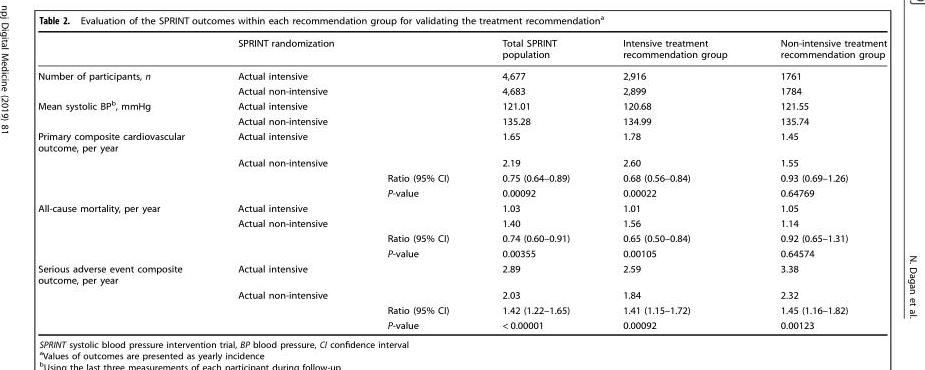table: (38, 37, 887, 330)
table column: (38, 37, 211, 330), (596, 37, 754, 330), (211, 37, 361, 330), (754, 37, 887, 330), (475, 37, 596, 330), (361, 37, 475, 330)
table column header: (38, 37, 887, 64)
table row: (38, 37, 887, 64), (38, 128, 887, 155), (38, 260, 887, 287), (38, 64, 887, 83), (38, 97, 887, 113), (38, 113, 887, 128), (38, 155, 887, 170), (38, 170, 887, 185), (38, 185, 887, 200), (38, 200, 887, 215), (38, 215, 887, 230), (38, 230, 887, 245), (38, 245, 887, 260), (38, 287, 887, 302), (38, 302, 887, 317), (38, 83, 887, 97), (38, 317, 887, 330)
table spanning cell: (38, 128, 211, 200), (38, 260, 211, 330), (38, 200, 211, 260), (38, 64, 211, 97), (38, 97, 211, 128)
